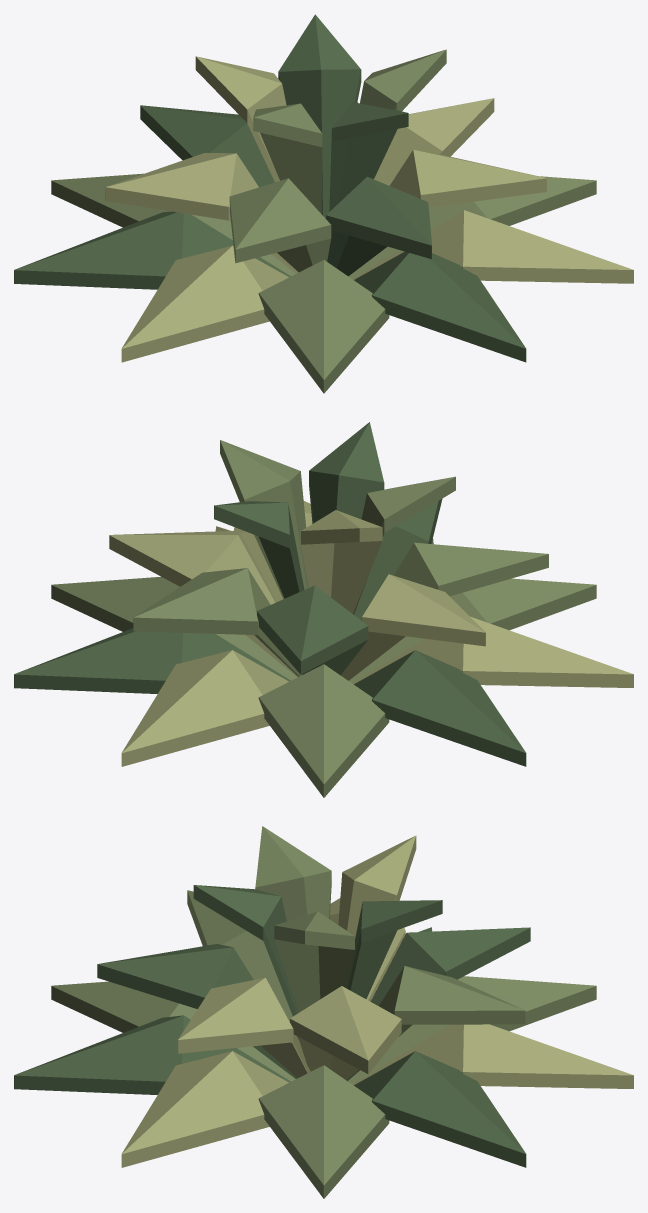
The model's file is SUCCULENT_ROSETTE.shadow.glb.
3 renders of one model, top to bottom at view 1: azimuth 30°, elevation 25°; view 2: azimuth 150°, elevation 25°; view 3: azimuth 270°, elevation 25°, orthographic.
Visible parts, largest first — view 1: SUCCULENT_ROSETTE; view 2: SUCCULENT_ROSETTE; view 3: SUCCULENT_ROSETTE.
Boxes of the visible parts, x1,y1,x2,y2 form: SUCCULENT_ROSETTE: (14,14,633,393); SUCCULENT_ROSETTE: (14,422,633,797); SUCCULENT_ROSETTE: (14,826,633,1198).
Size of the model in its own units: 0.4851 by 0.207 by 0.4926.
1 material, 1 textured.
